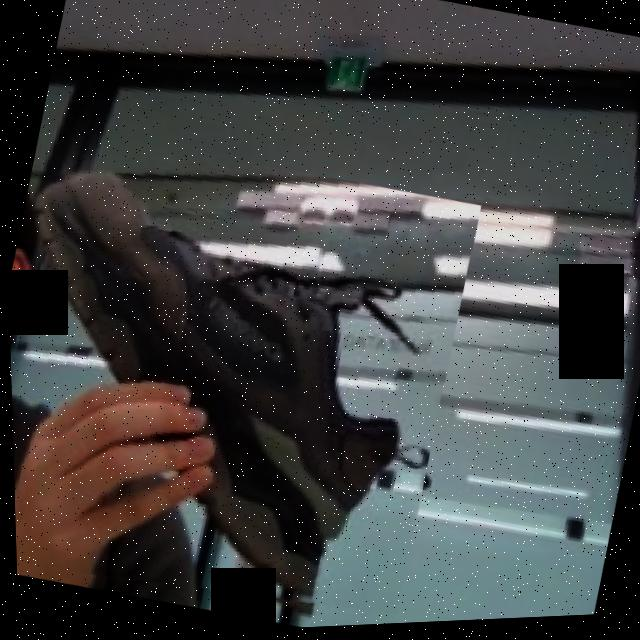shoe: (3, 109, 489, 640)
